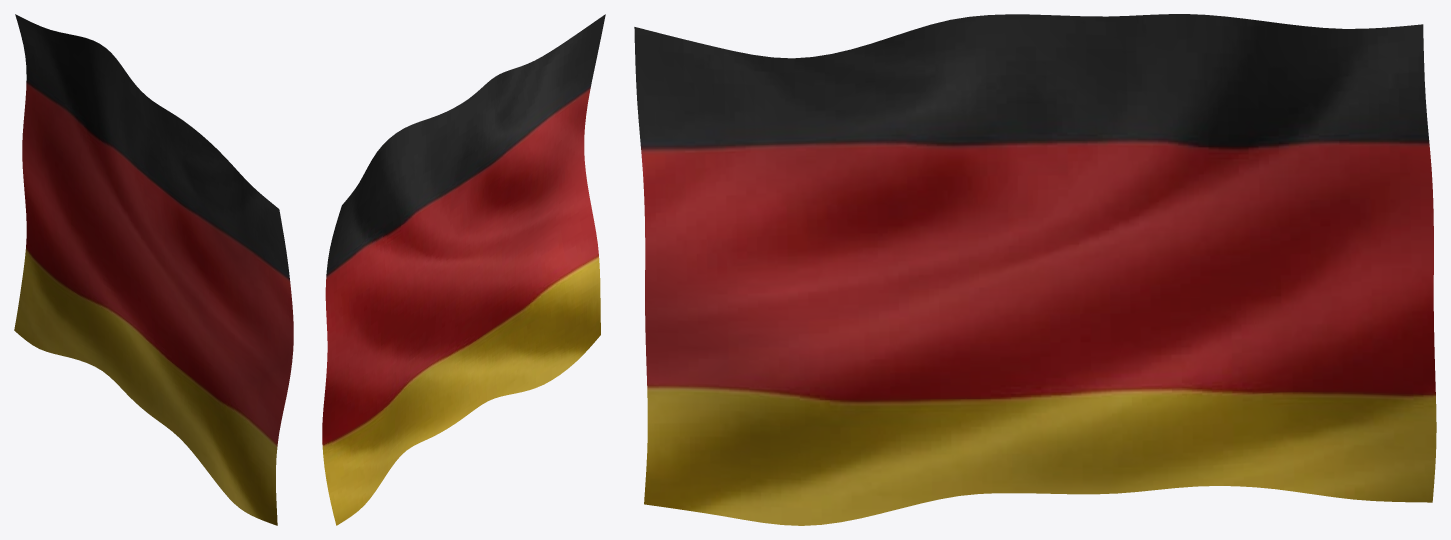
Rendered from bandieragermania-v1.glb.
The picture shows the model from 3 angles, left to right: view 1: azimuth 30°, elevation 25°; view 2: azimuth 150°, elevation 25°; view 3: azimuth 270°, elevation 25°; orthographic projection. The views are drawn at different scales.
Visible parts, largest first — view 1: Germany flag; view 2: Germany flag; view 3: Germany flag.
Part boxes in pixels (x1=…): Germany flag: x1=14, y1=14, x2=293, y2=525; Germany flag: x1=322, y1=14, x2=605, y2=525; Germany flag: x1=634, y1=14, x2=1436, y2=525.
Bounding box in the file's own units: 0.0628 × 1.09 × 1.53.
1 material, 1 textured.
